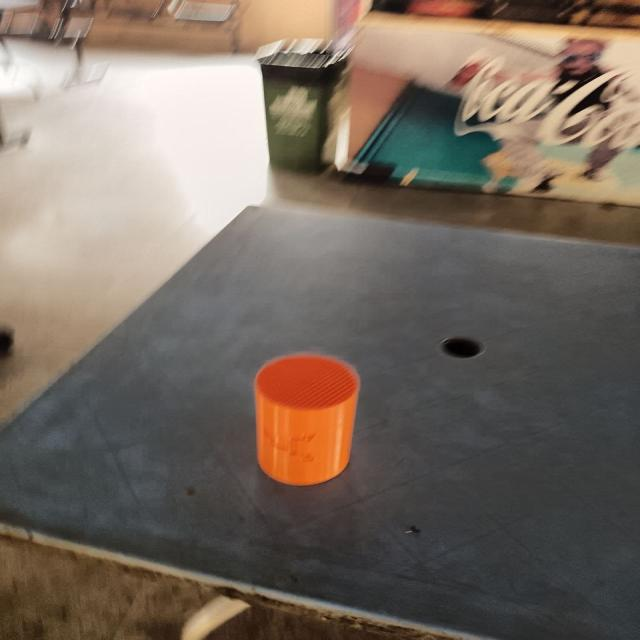Cylinder: (252, 352, 361, 486)
